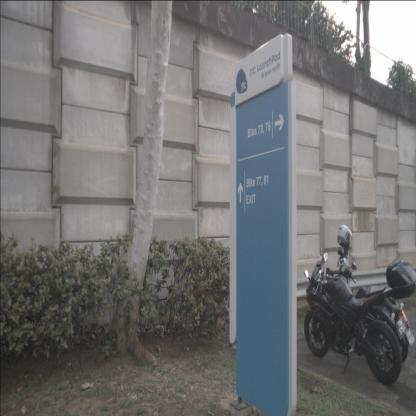vehicle-motorcycle: (304, 252, 415, 385), (325, 224, 400, 355)
